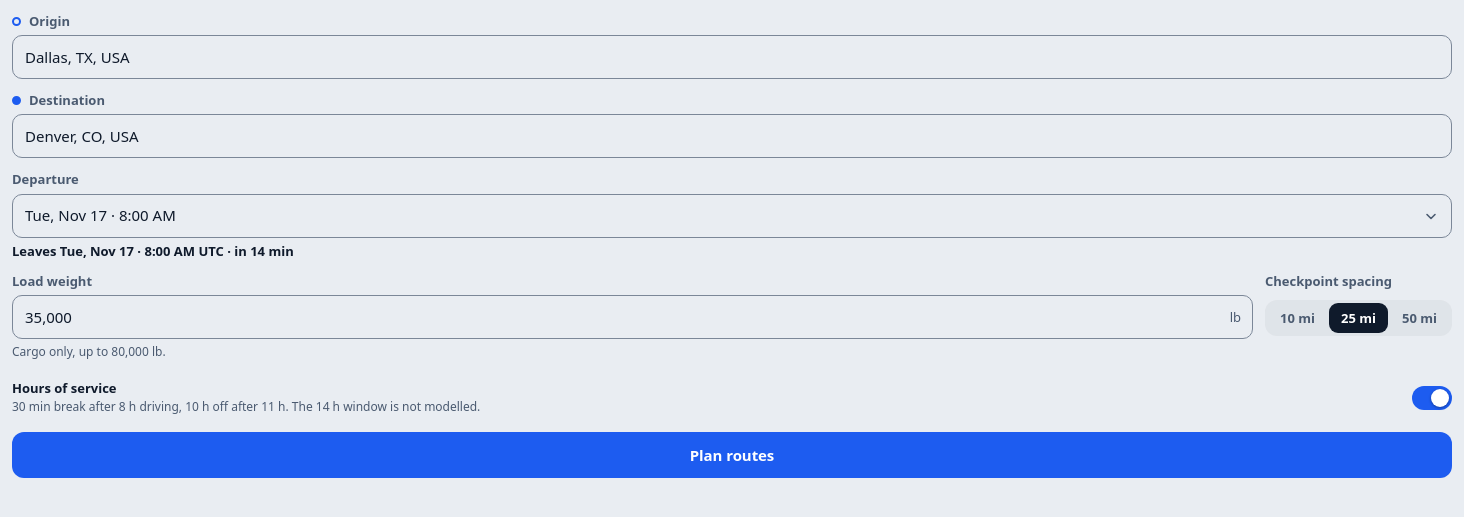
Scenario: PlanForm › shows a field error and disables submit when the origin is cleared
The width and height of the screenshot is (1464, 517).
Clear the dropdown labelled "Origin" at (732, 57), box [12,35,1452,79]
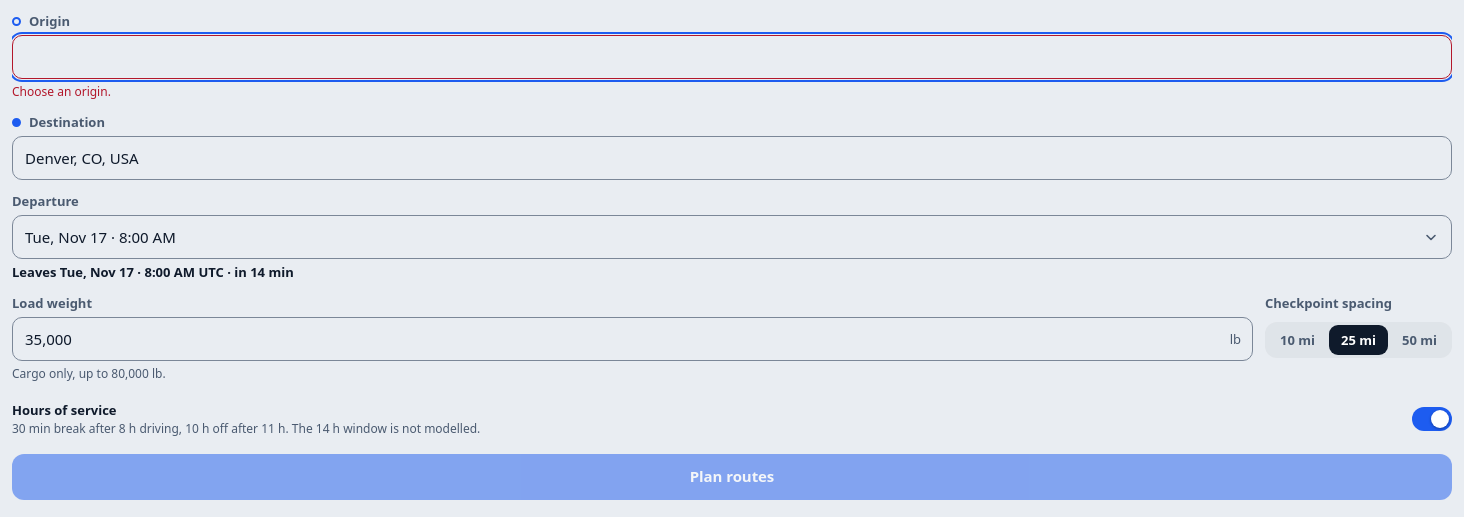
Expected: the text "Choose an origin." is shown, [12,83,111,100]
Expected: the button "Plan routes" is disabled, [12,454,1452,500]
